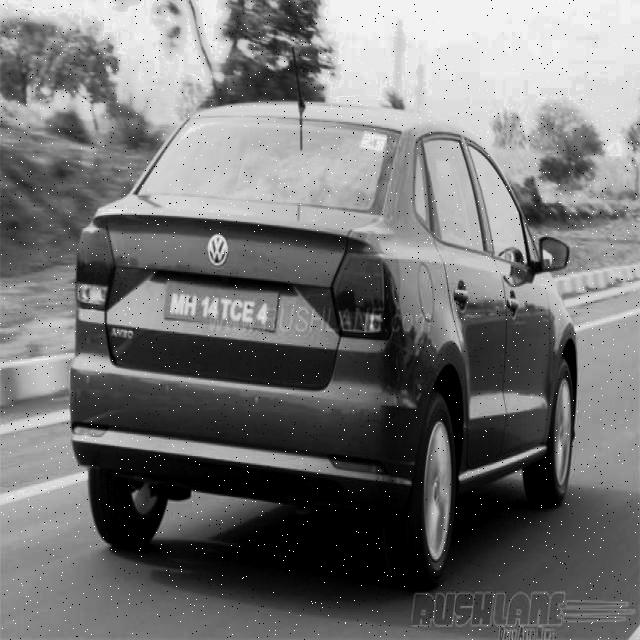Car: (86, 101, 593, 583)
